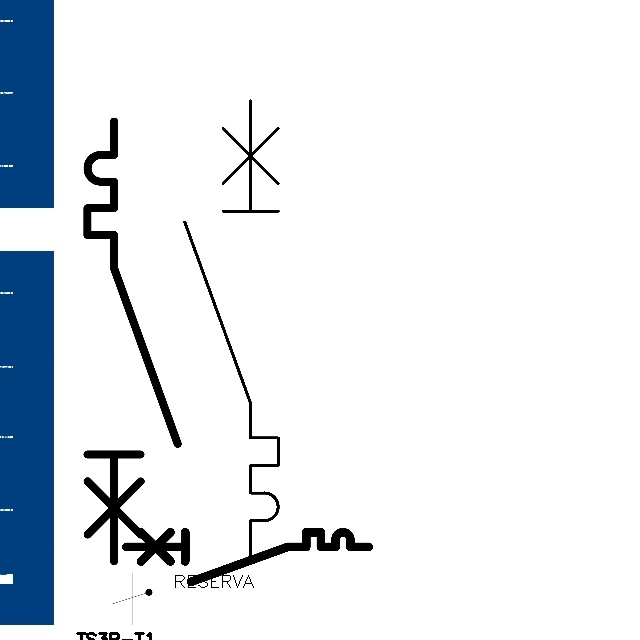interruptor_termomagnetico: (173, 89, 290, 567), (76, 110, 189, 572), (120, 526, 375, 588)
